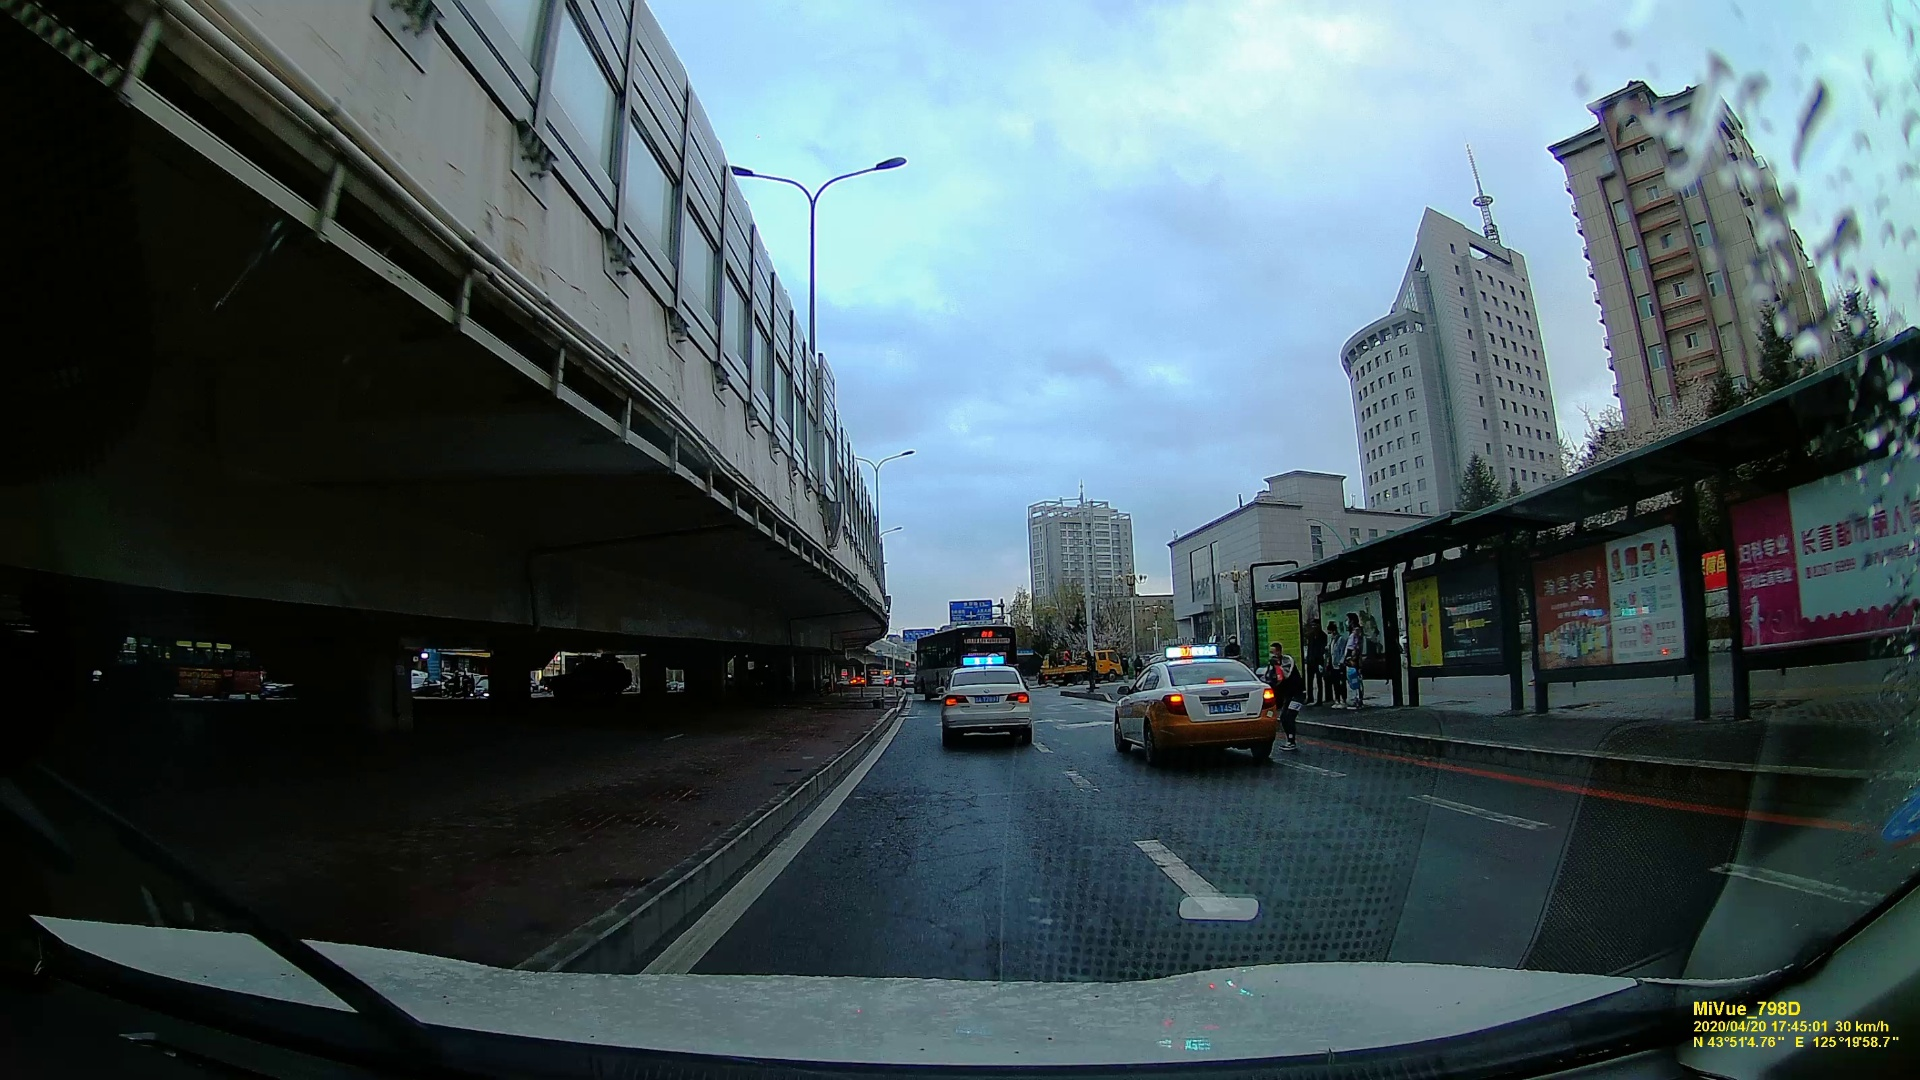person: (1297, 618, 1325, 712), (1337, 616, 1363, 708)
traffic_sign: (948, 600, 988, 624), (901, 628, 933, 642)
vehicle: (1111, 649, 1283, 767), (937, 665, 1036, 746)
